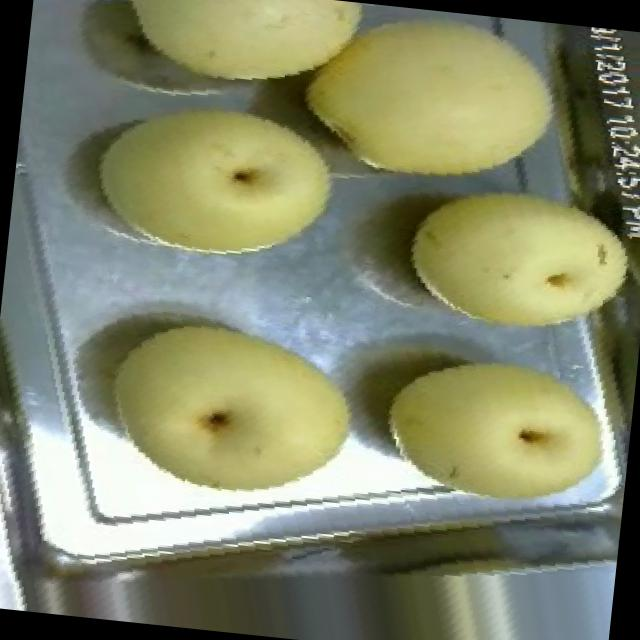Fruit: (75, 283, 384, 542), (65, 56, 372, 301), (267, 0, 585, 231), (356, 322, 634, 544), (378, 143, 640, 367), (87, 0, 390, 123)
